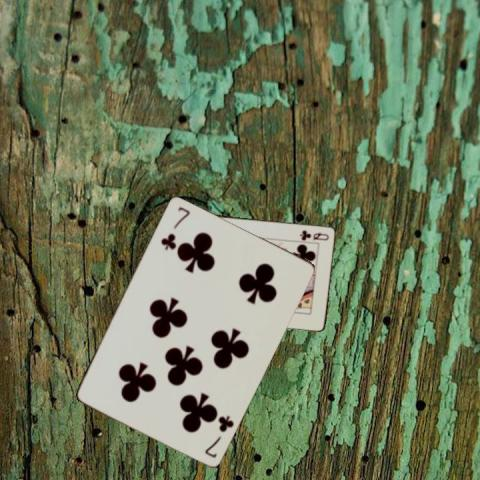7c: (158, 204, 192, 252), (202, 412, 236, 459)
Qc: (297, 227, 331, 241)
